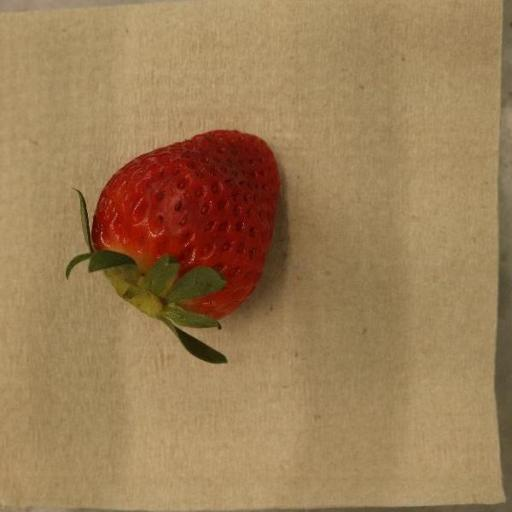Strawberry: (65, 130, 282, 365)
